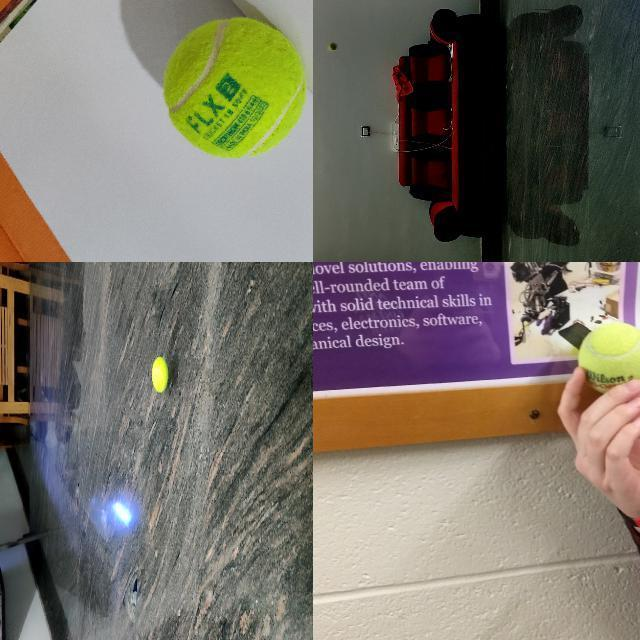tennis-ball: (162, 16, 308, 160), (577, 321, 639, 395), (152, 357, 169, 394), (329, 42, 338, 50)
